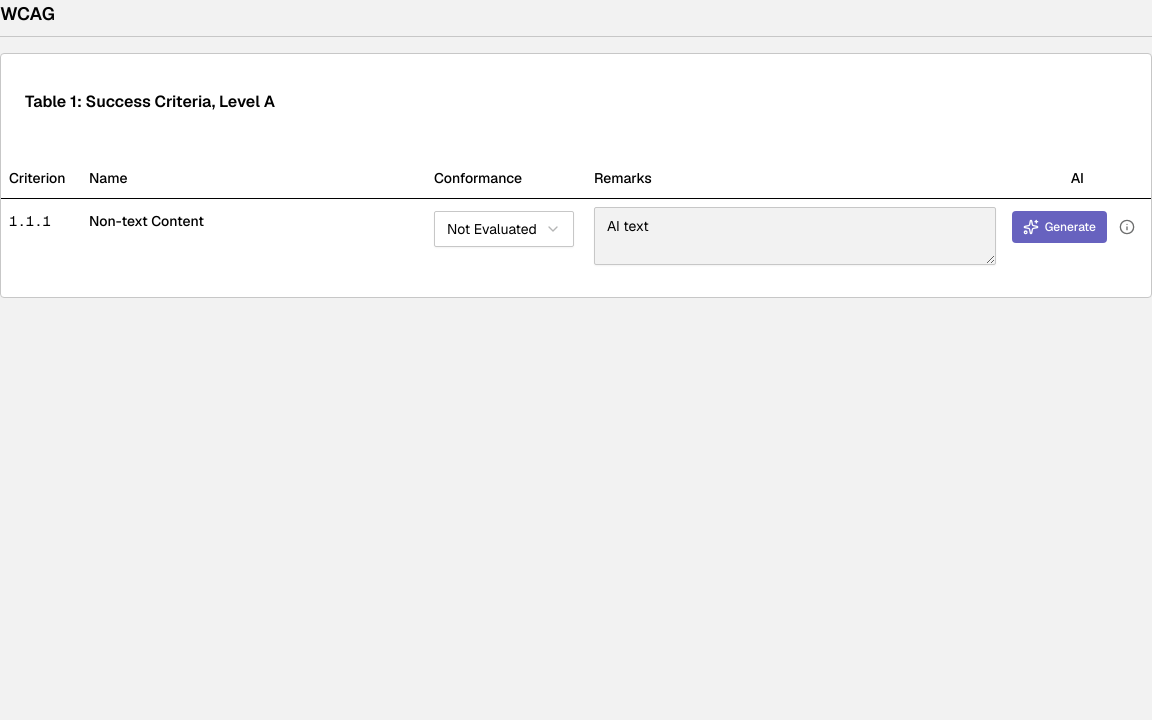
Test: VpatCriteriaTable › shows confidence badge when ai_confidence is set (via AI info modal)
What coordinates should you click on to do the following:
click the button named "ai info for 1.1.1"
I would click on:
 (1127, 226)
Its box is [1111,210,1143,242].
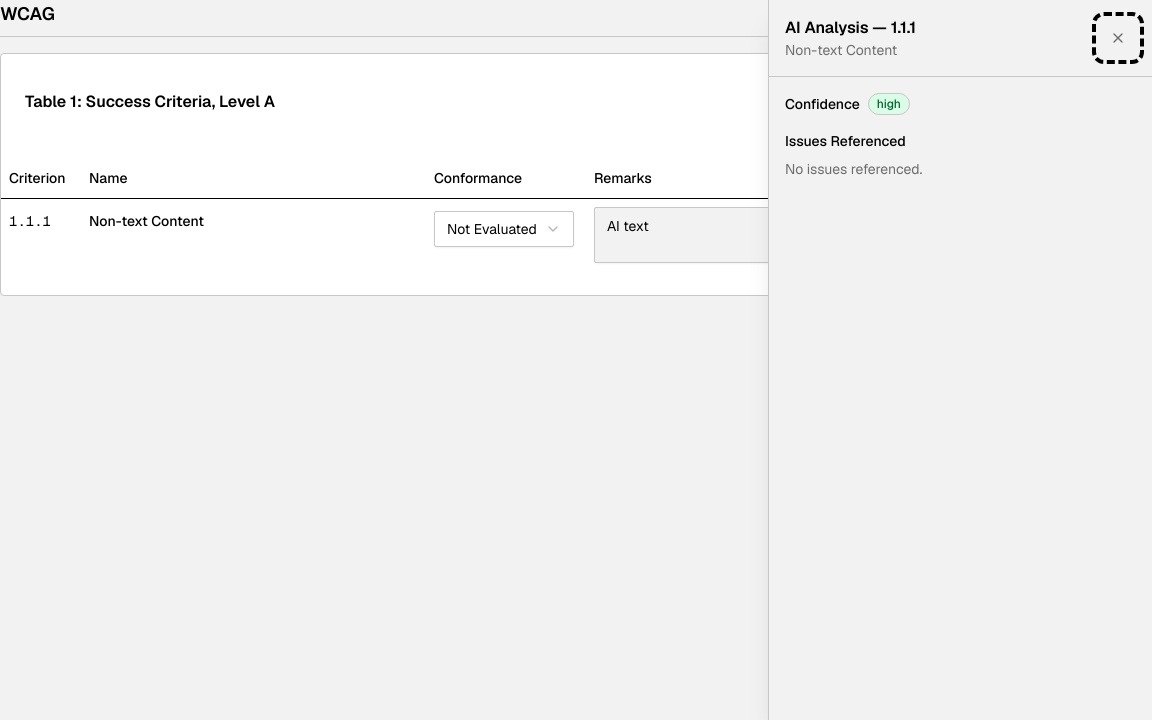
Now the text "high" is shown, box [868,93,910,115]
